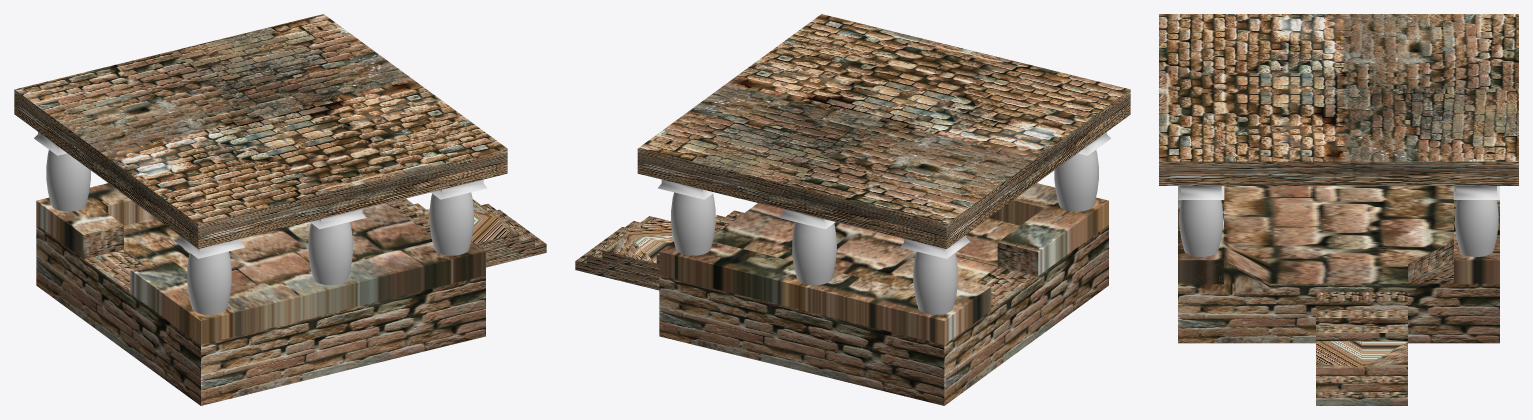
File: templo01.fbx
3 renders of one model, left to right at view 1: azimuth 30°, elevation 25°; view 2: azimuth 150°, elevation 25°; view 3: azimuth 270°, elevation 25°, orthographic. The views are drawn at different scales.
Parts seen in each view (by area): view 1: Cubo_1, Cubo, Cilindro, Cilindro_6, Cilindro_4, Cilindro_13, Cubo_1_4, Cubo_1_2, Cubo_1_3; view 2: Cubo_1, Cubo, Cilindro_9, Cilindro_11, Cilindro_13, Cilindro_6, Cubo_1_8, Cubo_1_6, Cubo_1_7; view 3: Cubo_1, Cubo, Cilindro, Cilindro_9, Cubo_1_2, Cubo_1_6.
Part boxes in pixels (bbox=[...]): Cubo_1: bbox=[14, 14, 507, 248]; Cubo: bbox=[36, 183, 546, 405]; Cilindro: bbox=[429, 192, 473, 255]; Cilindro_6: bbox=[187, 251, 231, 314]; Cilindro_4: bbox=[308, 222, 352, 285]; Cilindro_13: bbox=[46, 150, 90, 211]; Cubo_1_4: bbox=[175, 235, 244, 258]; Cubo_1_2: bbox=[431, 179, 487, 199]; Cubo_1_3: bbox=[310, 209, 366, 229]; Cubo_1: bbox=[637, 14, 1130, 248]; Cubo: bbox=[575, 183, 1108, 405]; Cilindro_9: bbox=[671, 192, 715, 255]; Cilindro_11: bbox=[792, 222, 836, 285]; Cilindro_13: bbox=[913, 251, 957, 314]; Cilindro_6: bbox=[1054, 150, 1098, 211]; Cubo_1_8: bbox=[900, 235, 970, 258]; Cubo_1_6: bbox=[658, 179, 714, 199]; Cubo_1_7: bbox=[779, 209, 835, 229]; Cubo_1: bbox=[1159, 14, 1518, 185]; Cubo: bbox=[1178, 186, 1499, 405]; Cilindro: bbox=[1179, 200, 1222, 256]; Cilindro_9: bbox=[1455, 200, 1498, 256]; Cubo_1_2: bbox=[1178, 186, 1224, 199]; Cubo_1_6: bbox=[1453, 186, 1499, 199].
Size of what is drawn, in the model's own units: 301 by 129 by 224.
Materials: 2 (2 with a texture image).
